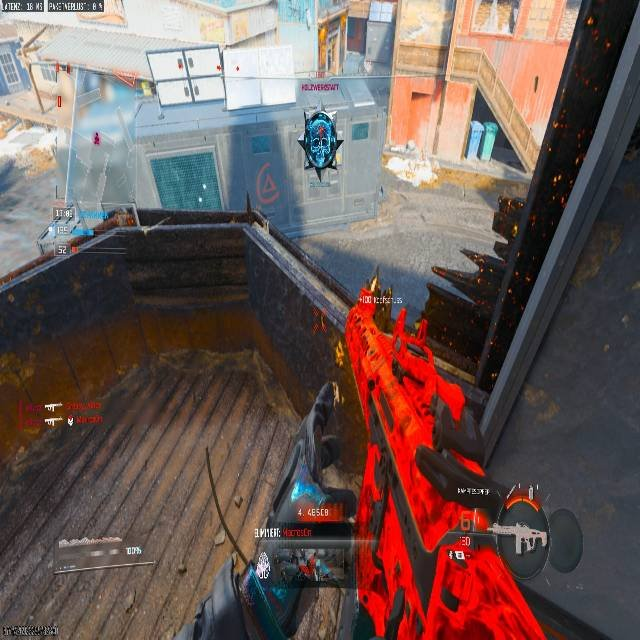player: (298, 107, 339, 180)
